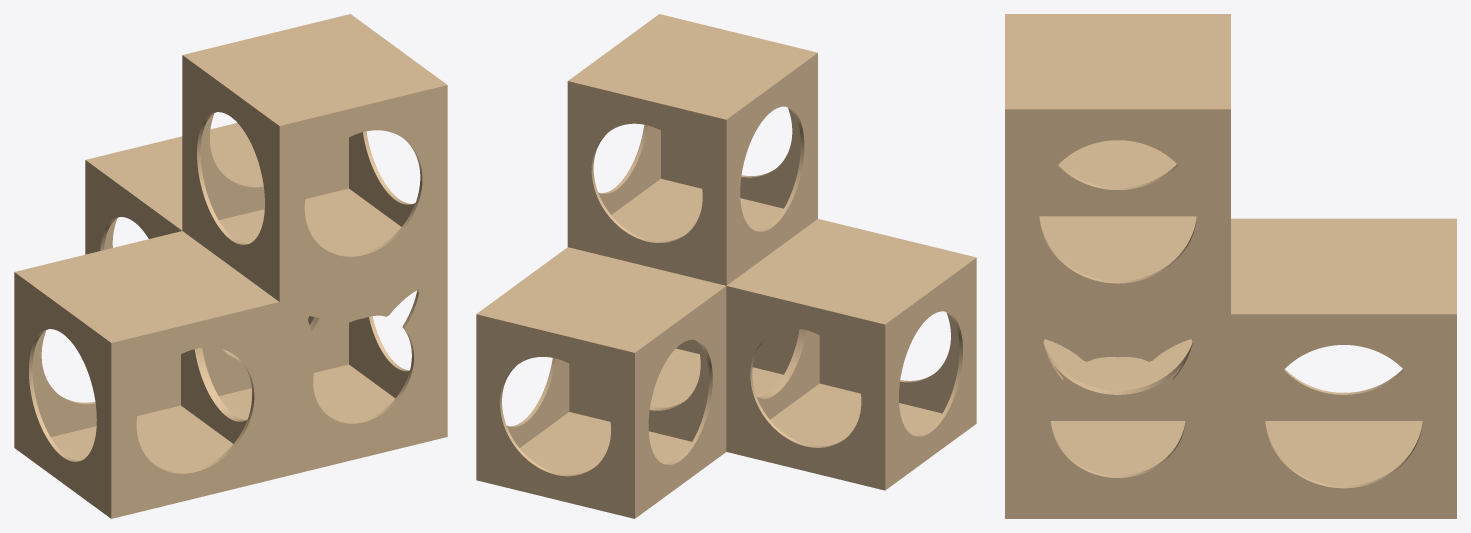
The model's file is kitten-castle.glb.
The picture shows the model from 3 angles, left to right: view 1: azimuth 30°, elevation 25°; view 2: azimuth 150°, elevation 25°; view 3: azimuth 270°, elevation 25°; orthographic projection. The views are drawn at different scales.
Visible parts, largest first — view 1: base_left, top, base_corner_cat, base_right; view 2: base_left, base_right, top, base_corner_cat; view 3: base_right, top, base_corner_cat, base_left.
Part boxes in pixels (<box>): base_left: <box>14,231,279,518</box>; top: <box>182,14,447,301</box>; base_corner_cat: <box>198,261,447,477</box>; base_right: <box>85,123,316,359</box>; base_left: <box>726,219,976,490</box>; base_right: <box>476,247,726,518</box>; top: <box>567,14,817,285</box>; base_corner_cat: <box>650,286,802,451</box>; base_right: <box>1231,218,1456,518</box>; top: <box>1005,14,1230,314</box>; base_corner_cat: <box>1005,314,1230,518</box>; base_left: <box>1043,140,1192,392</box>.
Bounding box in the file's own units: 0.54 × 0.54 × 0.54.
